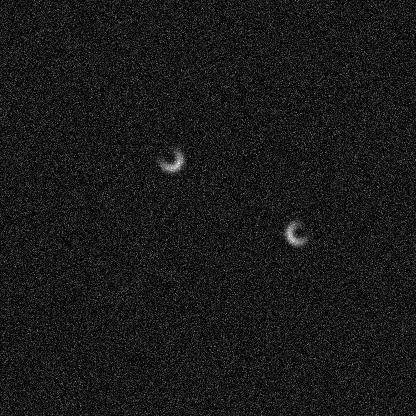Janus: (318, 136, 348, 166), (268, 91, 298, 121), (354, 5, 384, 35), (207, 39, 237, 69), (150, 107, 180, 137), (186, 144, 216, 174), (30, 53, 60, 83), (318, 35, 348, 65), (153, 353, 183, 383), (309, 351, 339, 381), (151, 302, 181, 332), (257, 187, 287, 217)
